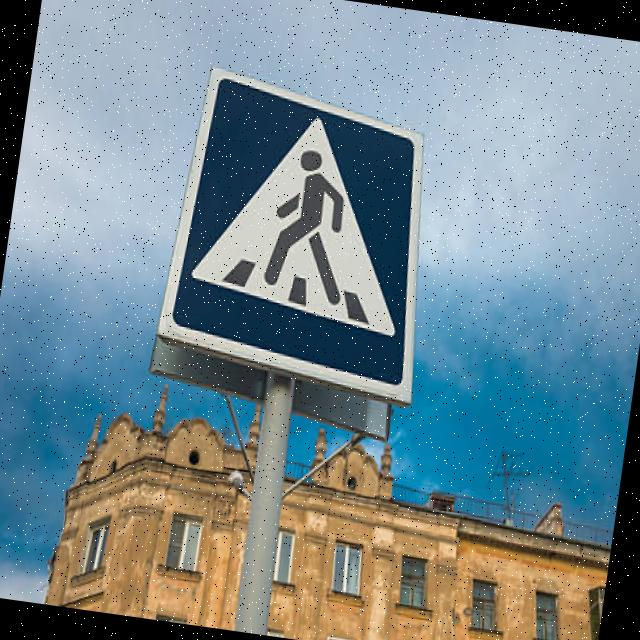crosswalk: (150, 46, 458, 410)
